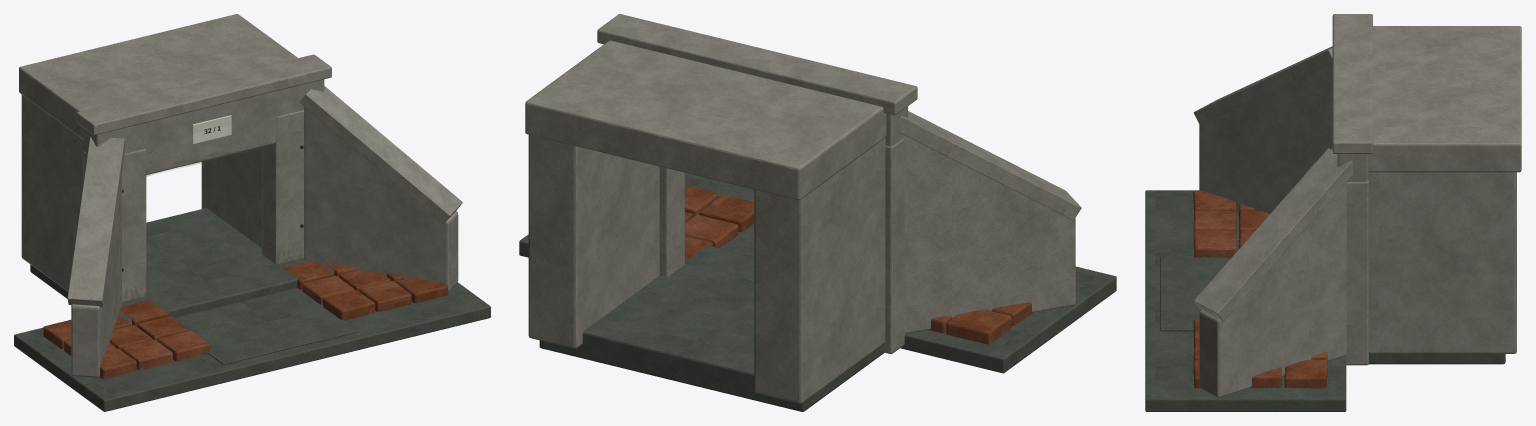
3 renders of one model, left to right at view 1: azimuth 30°, elevation 25°; view 2: azimuth 150°, elevation 25°; view 3: azimuth 270°, elevation 25°, orthographic. The views are drawn at different scales.
Parts seen in each view (by area): view 1: TF3_KR_R06; view 2: TF3_KR_R06; view 3: TF3_KR_R06.
Boxes of the visible parts, bbox=[...] form: TF3_KR_R06: bbox=[14, 14, 490, 411]; TF3_KR_R06: bbox=[519, 14, 1116, 411]; TF3_KR_R06: bbox=[1145, 14, 1521, 411].
Bounding box in the file's own units: 3.78 × 1.89 × 2.81.
Materials: 7 (5 with a texture image).
